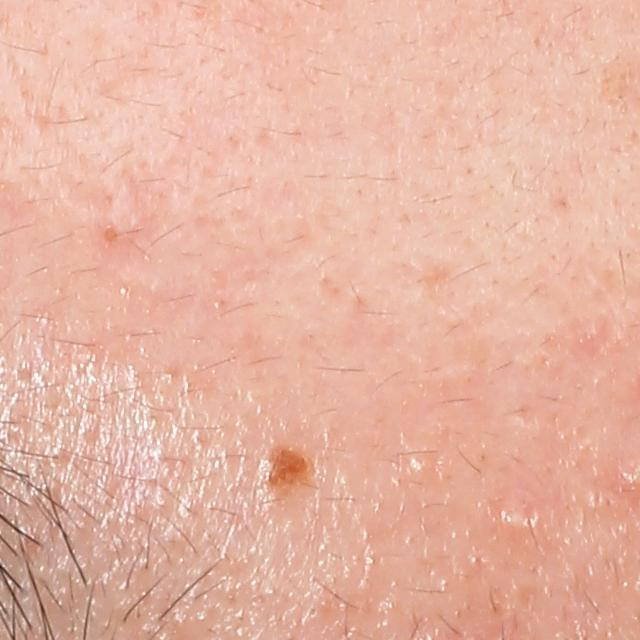atrophic_scar: (62, 177, 121, 218)
comedo: (96, 222, 128, 253)
nevus: (245, 441, 313, 496)
pustule: (496, 497, 538, 542)
